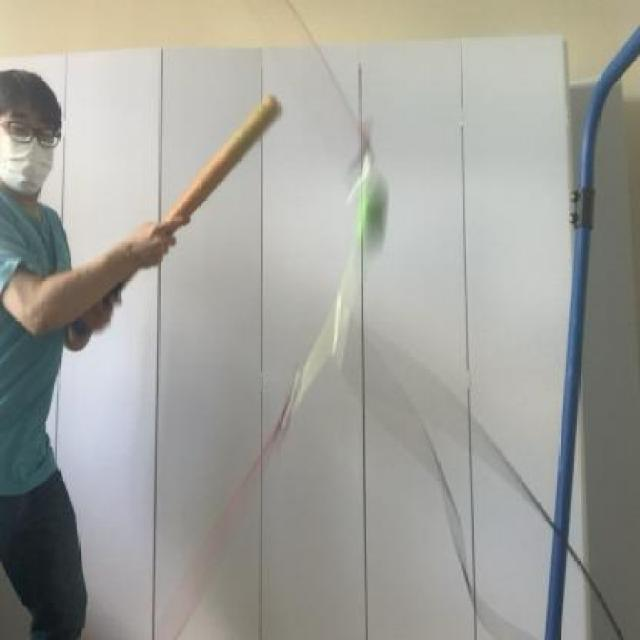baseball: (340, 151, 402, 266)
